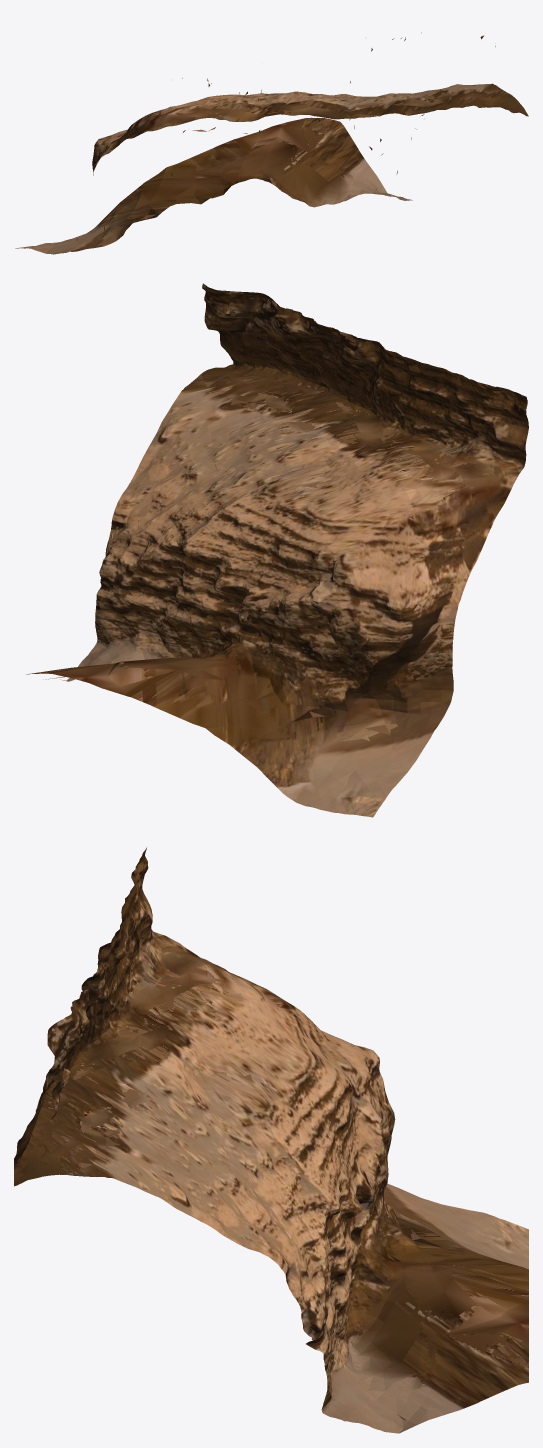
The picture shows the model from 3 angles, top to bottom: view 1: azimuth 30°, elevation 25°; view 2: azimuth 150°, elevation 25°; view 3: azimuth 270°, elevation 25°; orthographic projection. The views are drawn at different scales.
Size of the model in its own units: 1.04 by 0.8711 by 1.04.
Materials: 3 (3 with a texture image).
